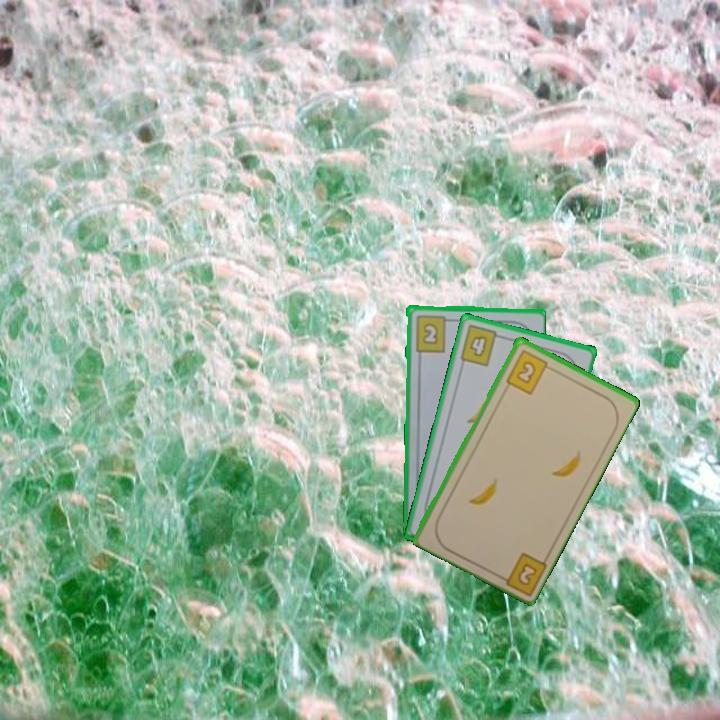2b: (502, 346, 555, 397), (493, 548, 549, 596), (411, 312, 454, 354)
4b: (456, 321, 507, 369)
